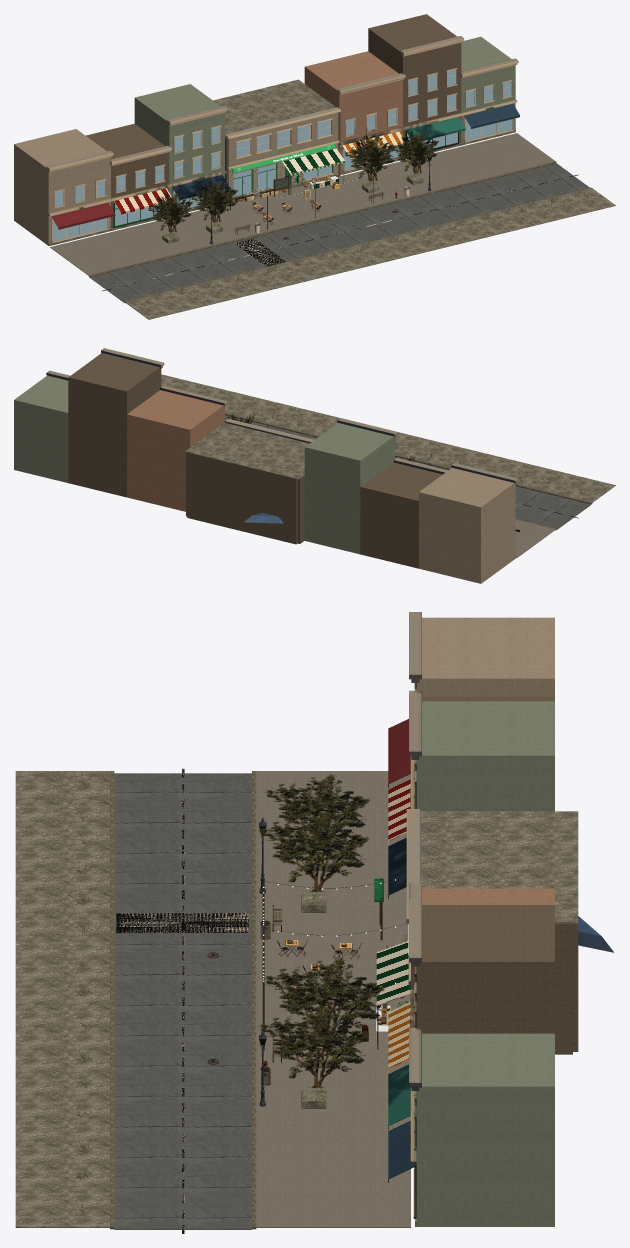
Rendered from kitchen.glb.
The picture shows the model from 3 angles, top to bottom: view 1: azimuth 30°, elevation 25°; view 2: azimuth 150°, elevation 25°; view 3: azimuth 270°, elevation 25°; orthographic projection. The views are drawn at different scales.
Parts seen in each view (by area): view 1: ground_tile, neigh_tile, neigh_color, shell_tile, neigh_glass, glass_glass, shell_color, props_tile, props_color, Tree1_0, ground_color, Tree3_0 (+8 smaller); view 2: neigh_tile, shell_tile, ground_tile, neigh_color, shell_color; view 3: ground_tile, neigh_tile, shell_tile, neigh_color, Tree1_90, Tree0_90, Tree3_90, ground_color, props_tile, Tree2_90, props_color, shell_color (+2 smaller).
Part boxes in pixels (x1,y1,x2,y2): ground_tile: [50, 133, 615, 319]; neigh_tile: [14, 14, 515, 245]; neigh_color: [46, 36, 519, 243]; shell_tile: [213, 79, 340, 201]; neigh_glass: [52, 69, 512, 241]; glass_glass: [233, 120, 331, 196]; shell_color: [225, 107, 340, 198]; props_tile: [162, 148, 423, 243]; props_color: [221, 144, 409, 240]; Tree1_0: [344, 135, 396, 181]; ground_color: [102, 174, 578, 291]; Tree3_0: [392, 132, 438, 173]; neigh_tile: [14, 353, 515, 583]; shell_tile: [185, 422, 309, 544]; ground_tile: [161, 374, 615, 557]; neigh_color: [46, 348, 519, 531]; shell_color: [224, 418, 314, 443]; ground_tile: [15, 771, 410, 1229]; neigh_tile: [388, 617, 554, 1226]; shell_tile: [410, 811, 578, 1054]; neigh_color: [388, 612, 421, 1218]; Tree1_90: [264, 957, 385, 1044]; Tree0_90: [258, 811, 369, 891]; Tree3_90: [258, 1007, 369, 1087]; ground_color: [116, 768, 249, 1233]; props_tile: [272, 852, 410, 1108]; Tree2_90: [265, 774, 369, 850]; props_color: [207, 876, 407, 1086]; shell_color: [406, 809, 420, 984].
Bounding box in the file's own units: 61.2 × 13.5 × 33.31.
39 materials, 34 textured.
